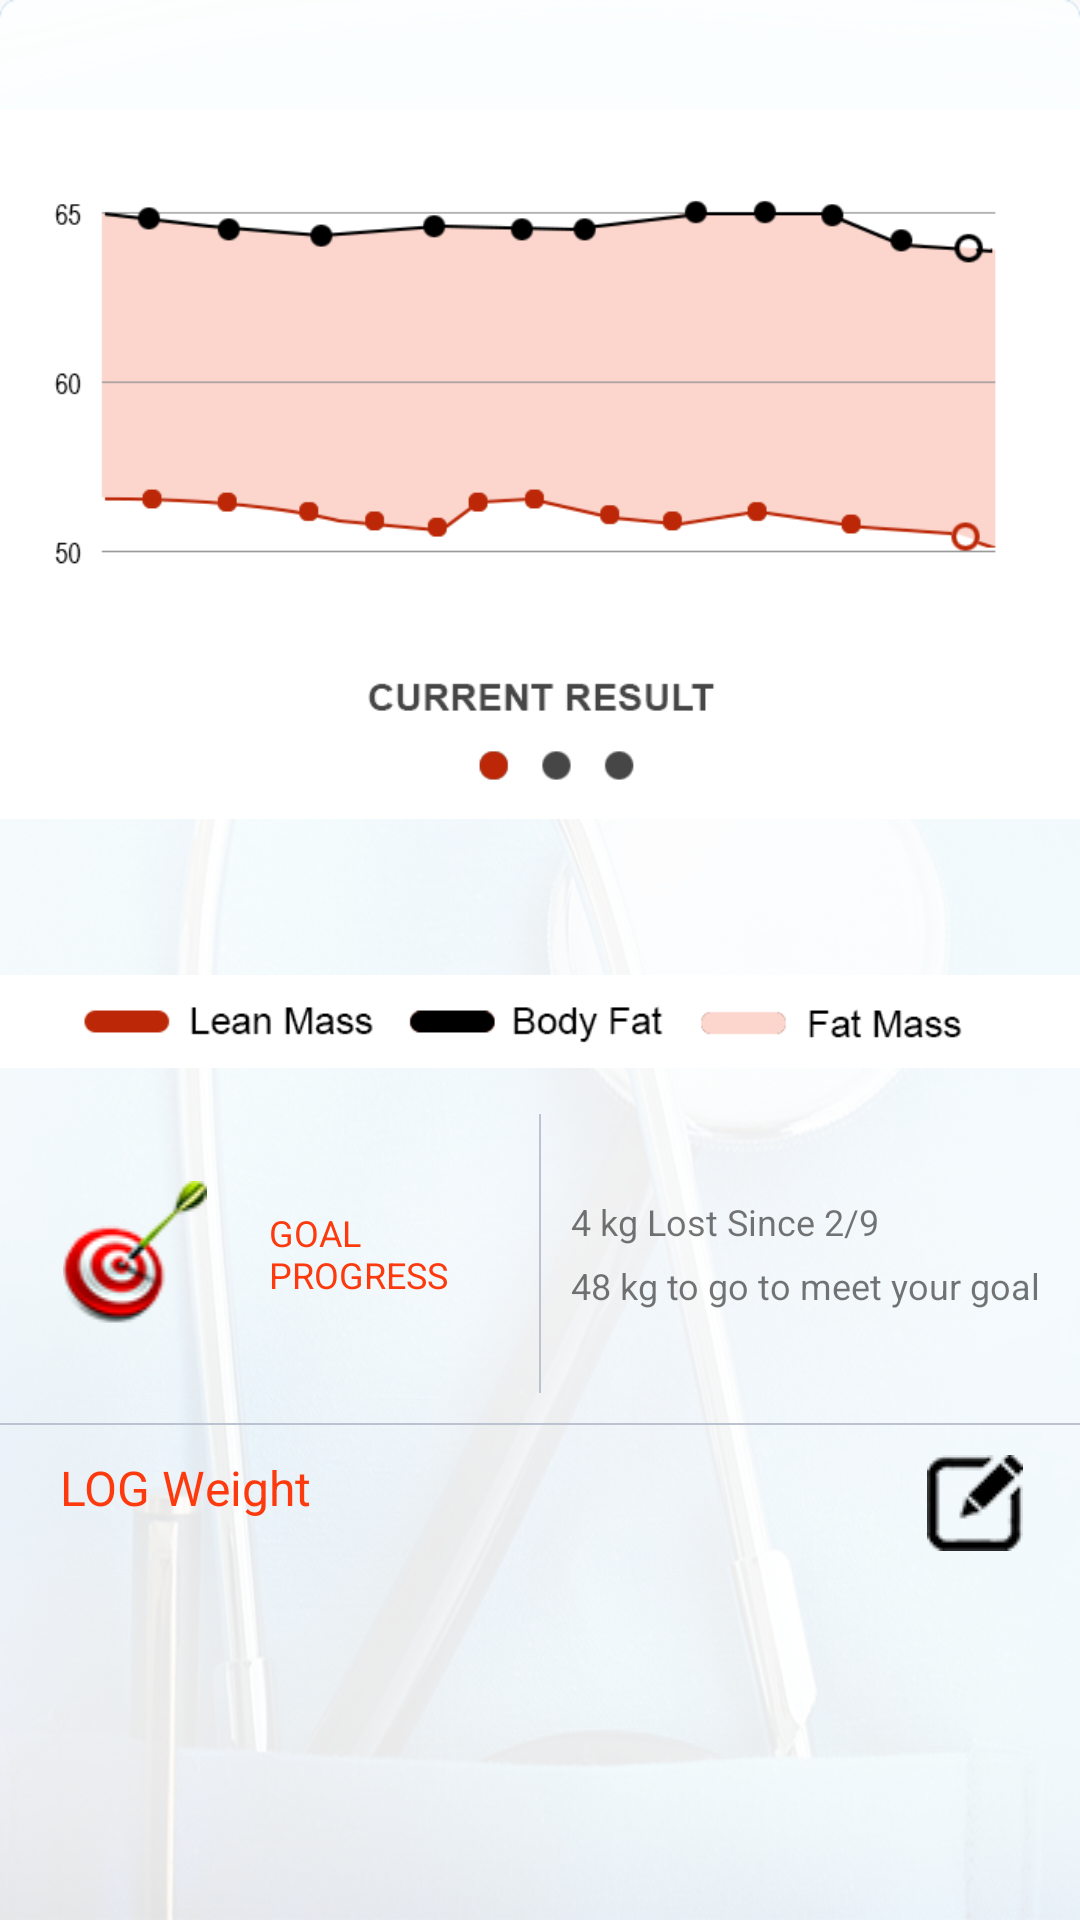

Where to tap for icons on this 1080 × 1920 app screen, as (x=x, y=y):
edit: (x=975, y=1503)
